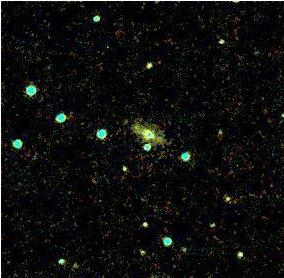star: (119, 111, 149, 141)
